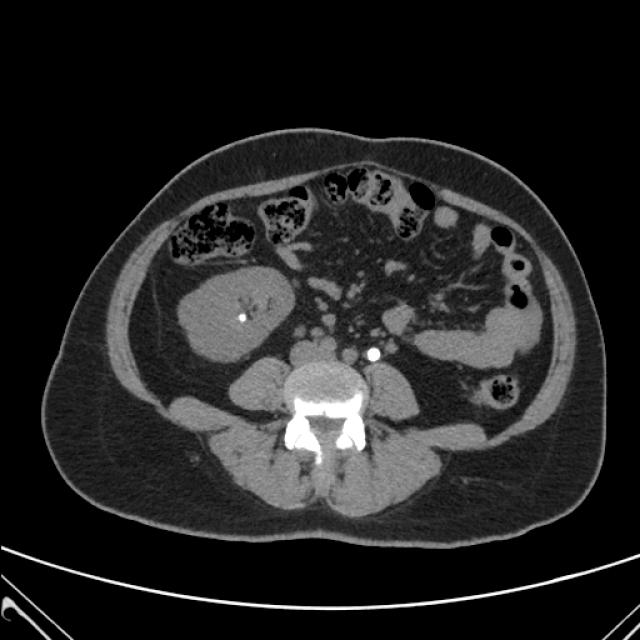kidney: (179, 264, 299, 362)
stone: (237, 312, 248, 323)
